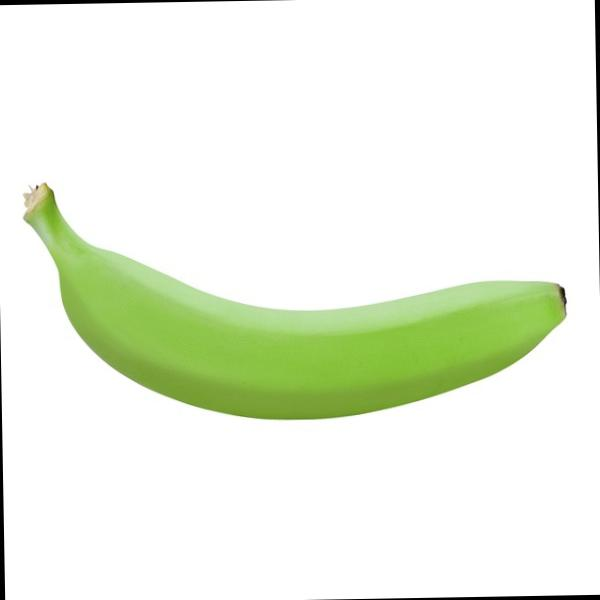Banana Unripe: (4, 148, 600, 497)
